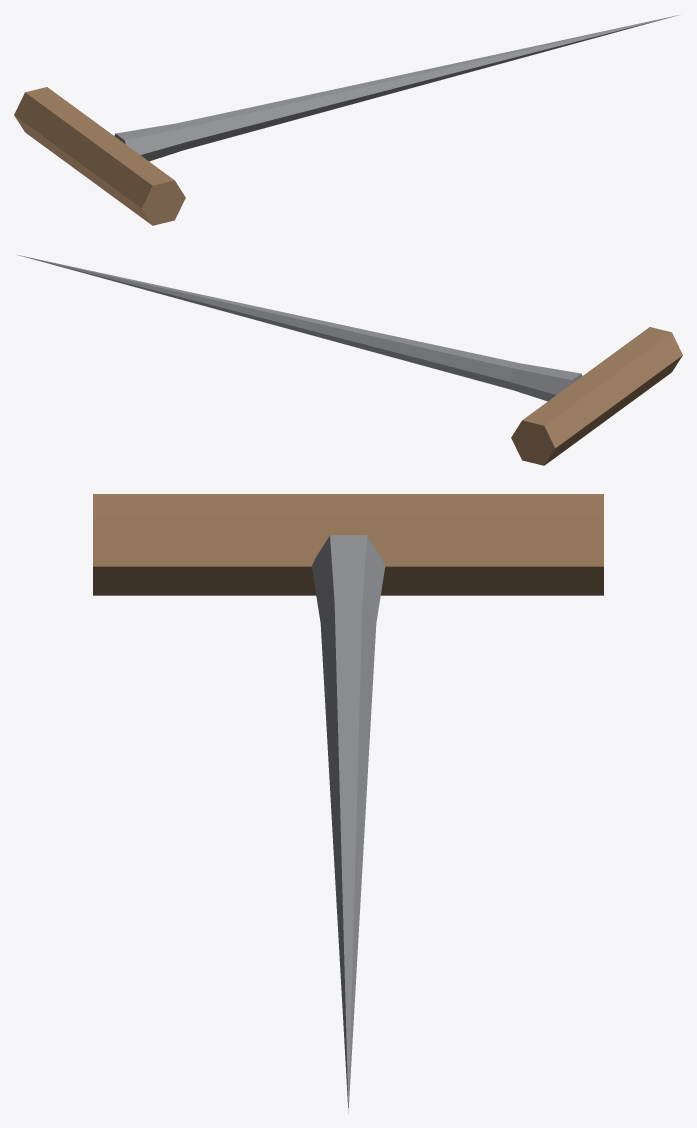
The model's file is prop-bore-reamer.fbx.
The picture shows the model from 3 angles, top to bottom: view 1: azimuth 30°, elevation 25°; view 2: azimuth 150°, elevation 25°; view 3: azimuth 270°, elevation 25°; orthographic projection. The views are drawn at different scales.
Visible parts, largest first — view 1: prop-bore-reamer; view 2: prop-bore-reamer; view 3: prop-bore-reamer.
Boxes of the visible parts, x1,y1,x2,y2 form: prop-bore-reamer: (14, 15, 678, 225); prop-bore-reamer: (18, 255, 682, 465); prop-bore-reamer: (93, 494, 603, 1113).
Size of the model in its own units: 30.1 by 1.91 by 11.
